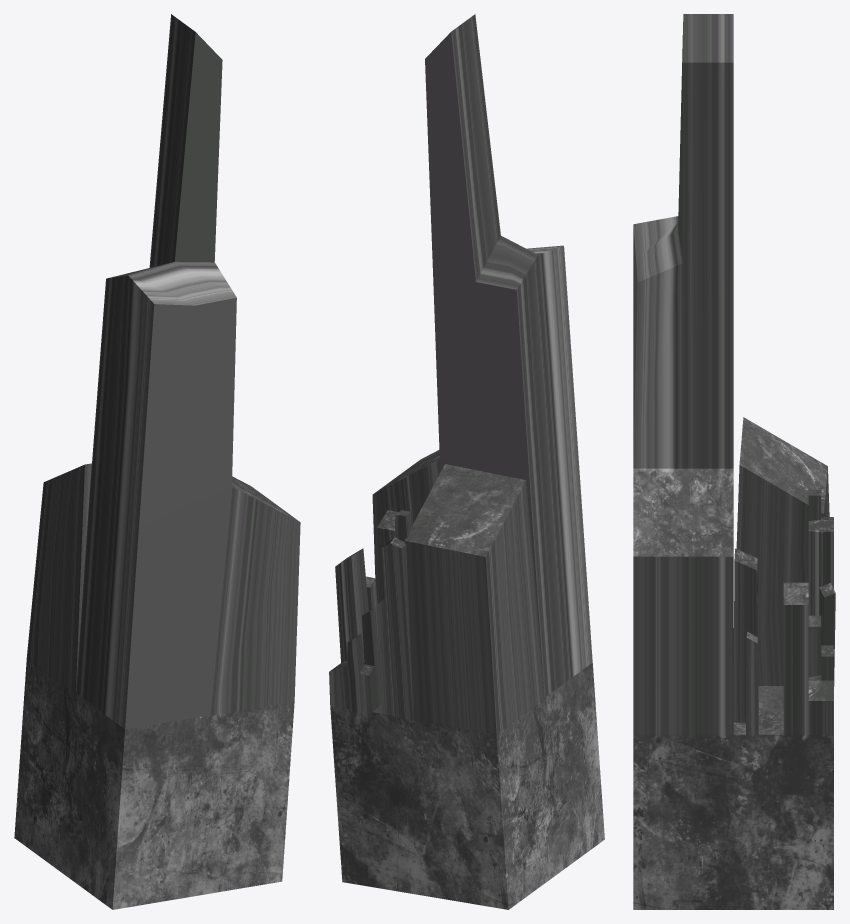
The model's file is superscraper.obj.
3 renders of one model, left to right at view 1: azimuth 30°, elevation 25°; view 2: azimuth 150°, elevation 25°; view 3: azimuth 270°, elevation 25°, orthographic. The views are drawn at different scales.
Parts seen in each view (by area): view 1: Cube.001; view 2: Cube.001; view 3: Cube.001.
Part boxes in pixels (left/top/right/bottom): Cube.001: left=14, top=14, right=300, bottom=909; Cube.001: left=329, top=14, right=604, bottom=909; Cube.001: left=633, top=14, right=835, bottom=909.
Size of the model in its own units: 2.23 by 9.51 by 2.02.
